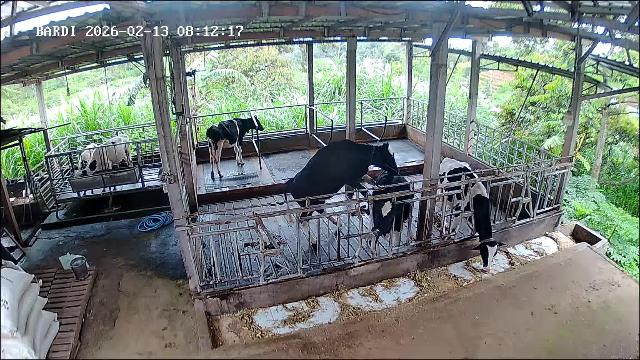mounting: (287, 137, 399, 239)
